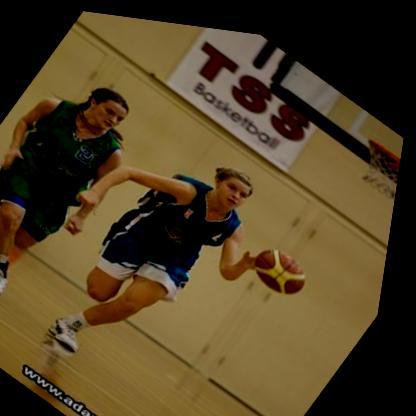basketball: (250, 231, 324, 297)
rim: (365, 126, 406, 173)
